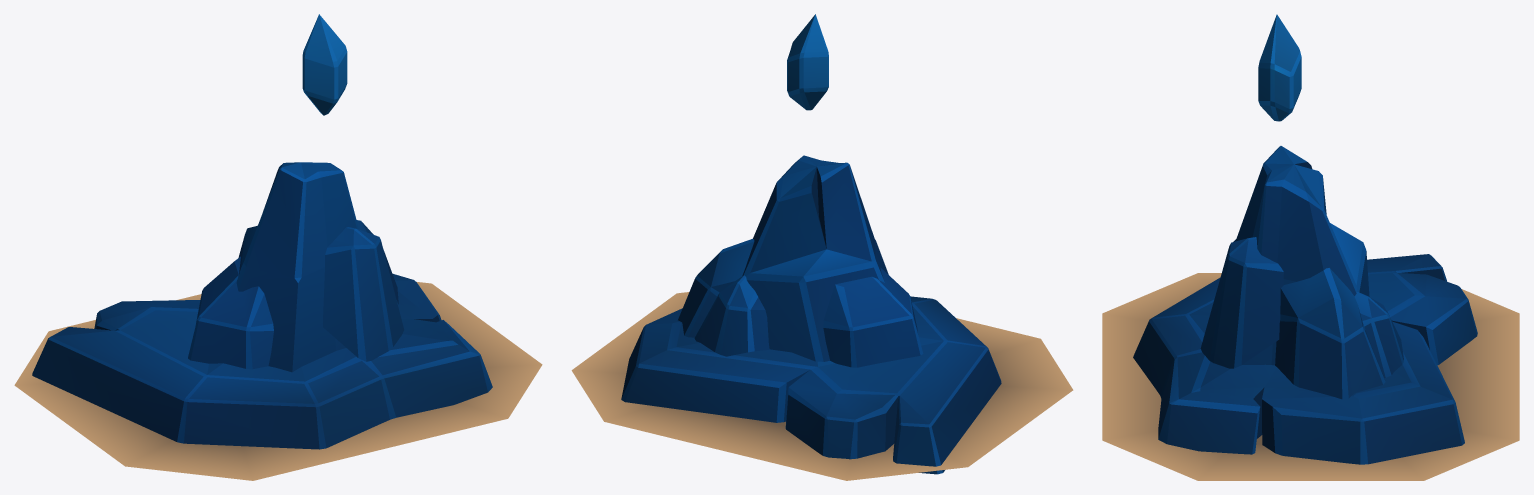
The model's file is Altar.fbx.
The picture shows the model from 3 angles, left to right: view 1: azimuth 30°, elevation 25°; view 2: azimuth 150°, elevation 25°; view 3: azimuth 270°, elevation 25°; orthographic projection. The views are drawn at different scales.
Visible parts, largest first — view 1: Altar; view 2: Altar; view 3: Altar.
Boxes of the visible parts, left/top/right/bottom form: Altar: left=14, top=14, right=542, bottom=480; Altar: left=571, top=14, right=1073, bottom=480; Altar: left=1102, top=14, right=1519, bottom=480.
Bounding box in the file's own units: 4960 × 4250 × 4207.
